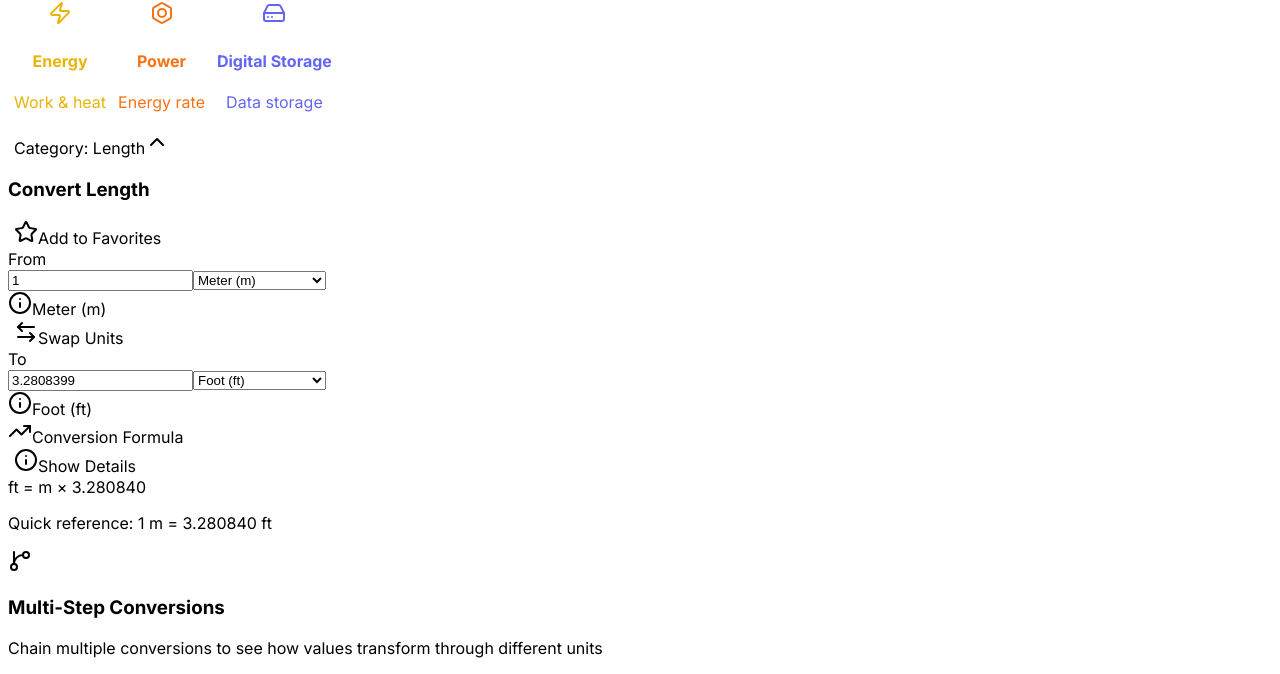
Unit Converter Page › Unit Conversion › performs conversion when input value changes
(page scrolled)
Replace the text in the field with placeholder "Enter value" with "10". click: (100, 281)
box: 8,270 -> 193,291
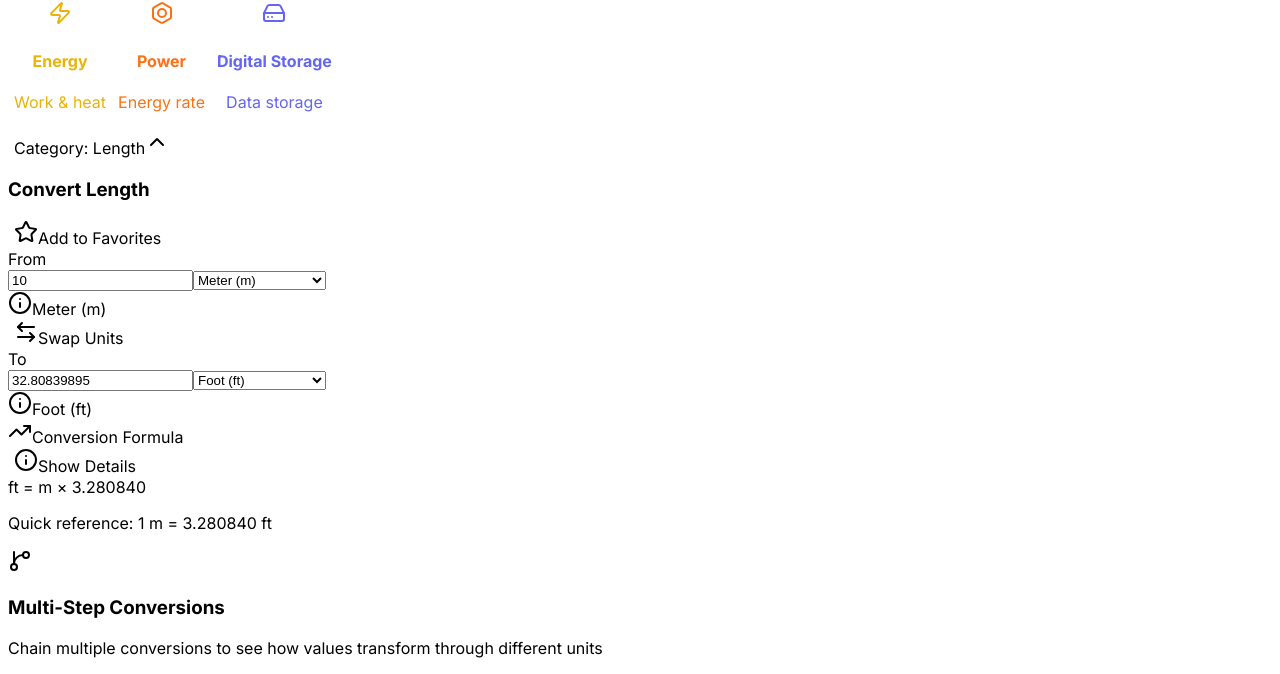
expect the field with placeholder "Result" is not empty: met, box 8,370 -> 193,391
